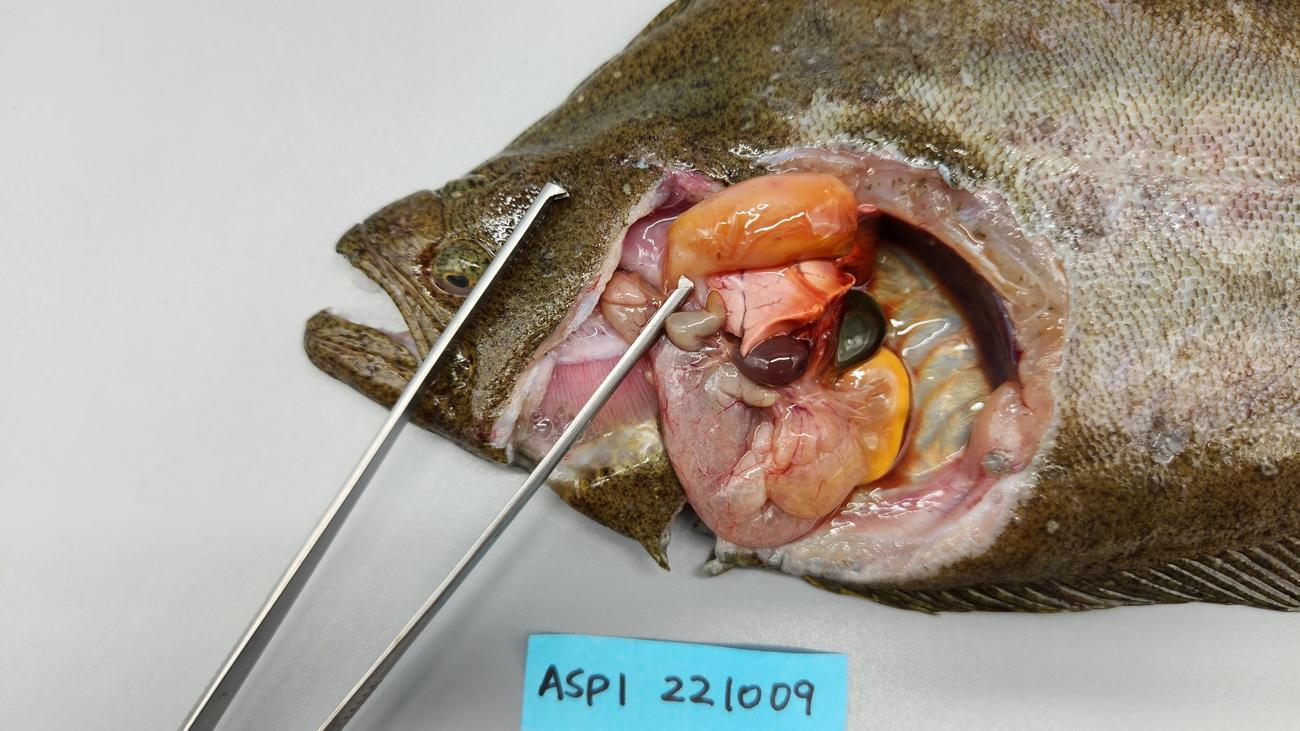SPINI: (701, 346, 911, 517)
